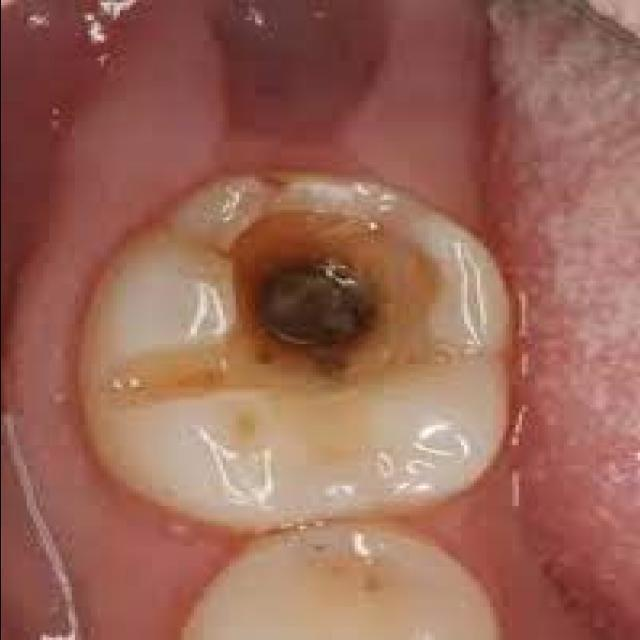caries: (205, 203, 450, 397)
